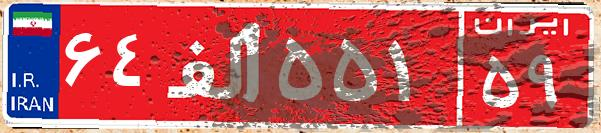1: (385, 28, 445, 110)
4: (110, 28, 158, 105)
5: (273, 28, 330, 110), (330, 28, 385, 110), (475, 38, 525, 113)
6: (57, 26, 110, 107)
9: (525, 38, 570, 115)
الف: (158, 15, 273, 115)
